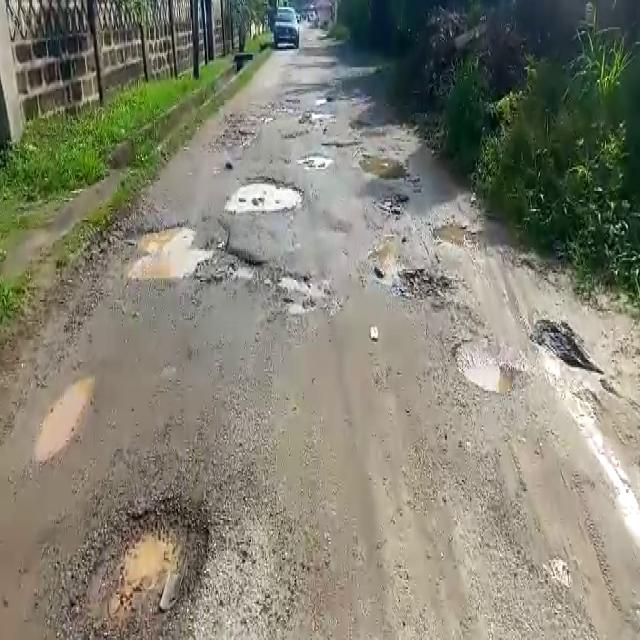Pothole: (82, 494, 218, 636), (120, 218, 262, 284), (31, 373, 95, 462), (530, 317, 608, 378), (454, 337, 520, 400), (225, 172, 308, 215), (276, 272, 337, 316), (396, 265, 455, 304), (358, 152, 411, 185), (430, 216, 483, 248), (298, 150, 336, 166)
